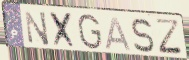A: (104, 16, 133, 52)
G: (77, 13, 104, 51)
N: (23, 10, 51, 48)
S: (131, 17, 156, 54)
X: (48, 11, 79, 50)
Z: (154, 18, 185, 57)
